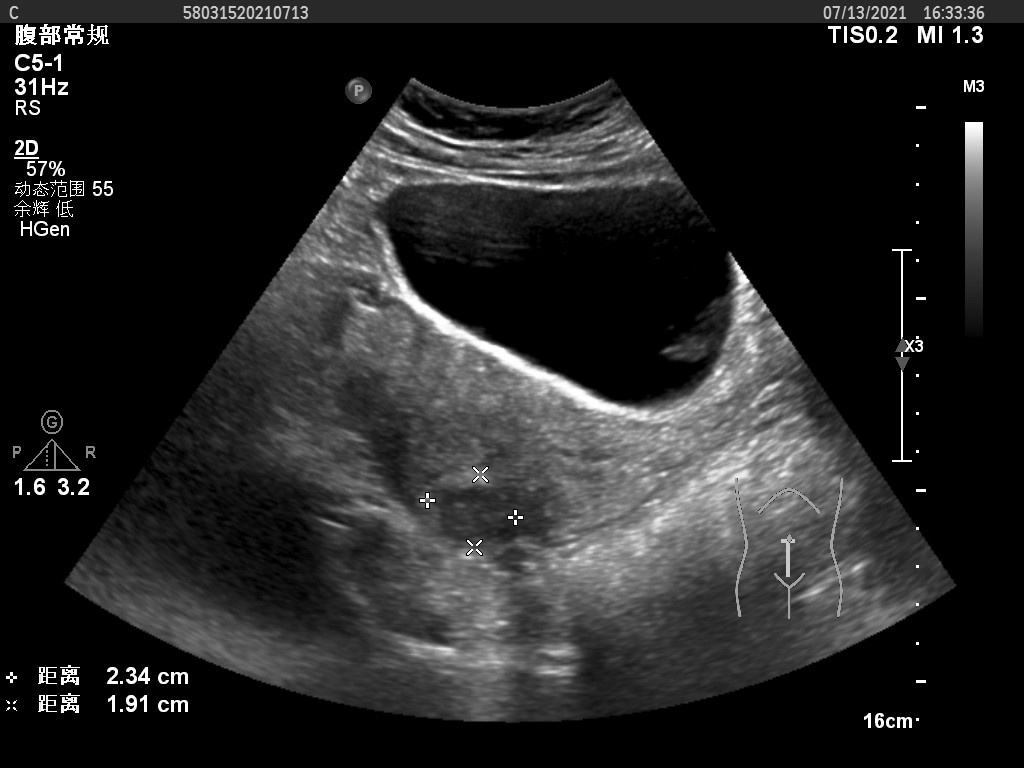肌瘤: (427, 478, 519, 551)
